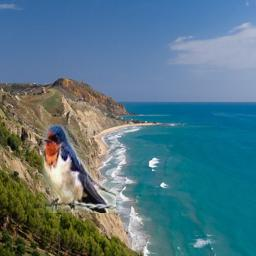Swallow: (42, 125, 116, 213)
